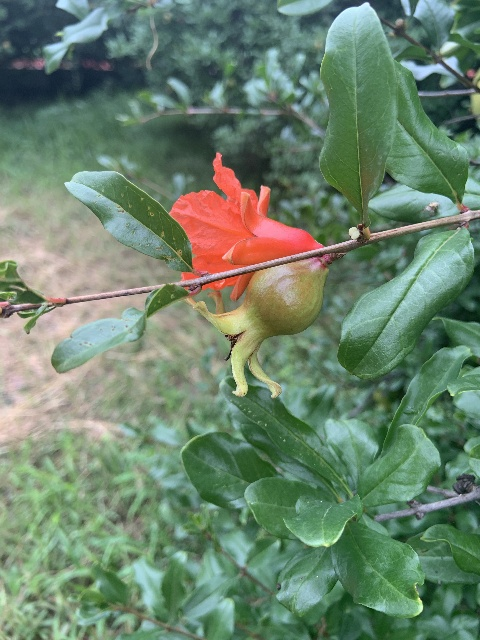early-fruit: (180, 256, 328, 398)
flower: (167, 152, 323, 300)
